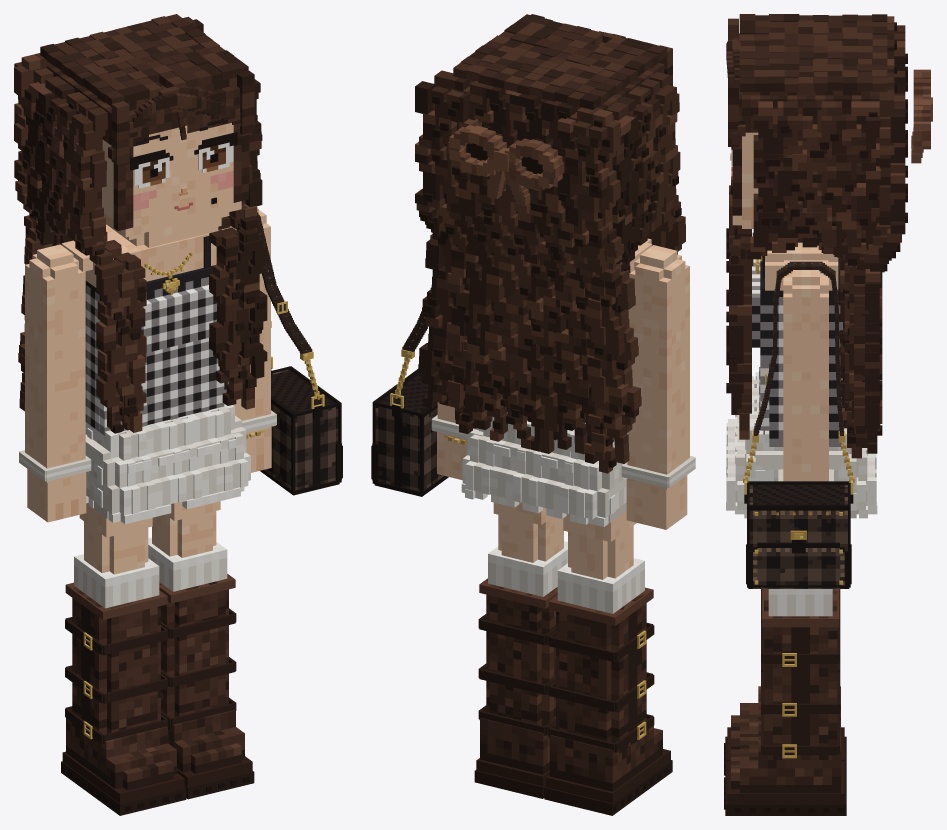
File: rihana-especial.198bcafd.glb
3 views of the same model, side by side, from view 1: azimuth 30°, elevation 25°; view 2: azimuth 150°, elevation 25°; view 3: azimuth 270°, elevation 25° (orthographic). The views are drawn at different scales.
Visible parts, largest first — view 1: skin_f3c9a6, hair_43281d, hair_2b1911, hair_4b2e21, boot_26160f, hair_3a2219, face_f3c9a6, skirt_f4f1ea, top_8b8586, hair_321d15, boot_452a1e, boot_4a2d20 (+27 smaller); view 2: hair_43281d, hair_4b2e21, skin_f3c9a6, hair_321d15, hair_2b1911, hair_5e3b2a, boot_26160f, hair_3a2219, hair_20120c, skirt_f4f1ea, boot_452a1e, boot_4a2d20 (+20 smaller); view 3: hair_2b1911, hair_43281d, skin_f3c9a6, hair_321d15, hair_4b2e21, boot_26160f, hair_3a2219, hair_5e3b2a, hair_20120c, bag_120c0a, bag_3a2a23, boot_352016 (+30 smaller).
Boxes of the visible parts, x1,y1,x2,y2 form: skin_f3c9a6: [25, 208, 271, 574]; hair_43281d: [14, 14, 257, 430]; hair_2b1911: [14, 19, 267, 411]; hair_4b2e21: [14, 16, 261, 411]; boot_26160f: [65, 581, 244, 790]; hair_3a2219: [44, 18, 241, 393]; face_f3c9a6: [102, 122, 241, 247]; skirt_f4f1ea: [86, 404, 250, 524]; top_8b8586: [85, 277, 226, 435]; hair_321d15: [14, 23, 261, 421]; boot_452a1e: [66, 587, 244, 772]; boot_4a2d20: [66, 592, 244, 782]; hair_43281d: [433, 23, 685, 454]; hair_4b2e21: [416, 22, 677, 473]; skin_f3c9a6: [437, 238, 689, 579]; hair_321d15: [422, 14, 660, 463]; hair_2b1911: [415, 14, 675, 443]; hair_5e3b2a: [415, 90, 677, 454]; boot_26160f: [478, 603, 662, 791]; hair_3a2219: [431, 26, 672, 460]; hair_20120c: [420, 94, 681, 467]; skirt_f4f1ea: [461, 412, 626, 524]; boot_452a1e: [486, 584, 662, 776]; boot_4a2d20: [486, 589, 658, 783]; hair_2b1911: [726, 14, 905, 453]; hair_43281d: [727, 20, 905, 458]; skin_f3c9a6: [765, 245, 838, 481]; hair_321d15: [728, 14, 905, 447]; hair_4b2e21: [726, 18, 905, 438]; boot_26160f: [731, 589, 840, 793]; hair_3a2219: [726, 14, 905, 447]; hair_5e3b2a: [729, 16, 930, 439]; hair_20120c: [726, 22, 907, 443]; bag_120c0a: [744, 481, 853, 588]; bag_3a2a23: [749, 485, 847, 588]; boot_352016: [731, 600, 840, 784].
Bounding box in the file's own units: 0.7153 × 1.7 × 0.4384.
